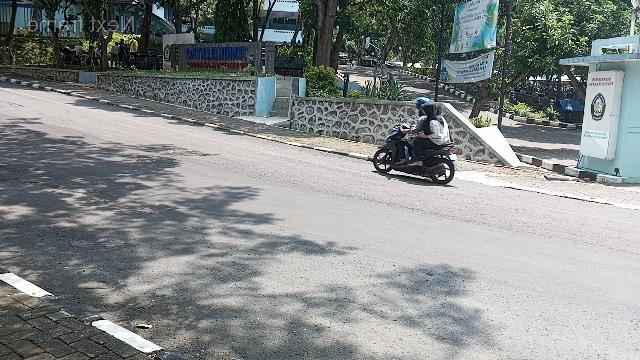helm: (416, 98, 430, 113)
motor: (374, 125, 459, 185)
non-helm: (423, 104, 437, 116)
